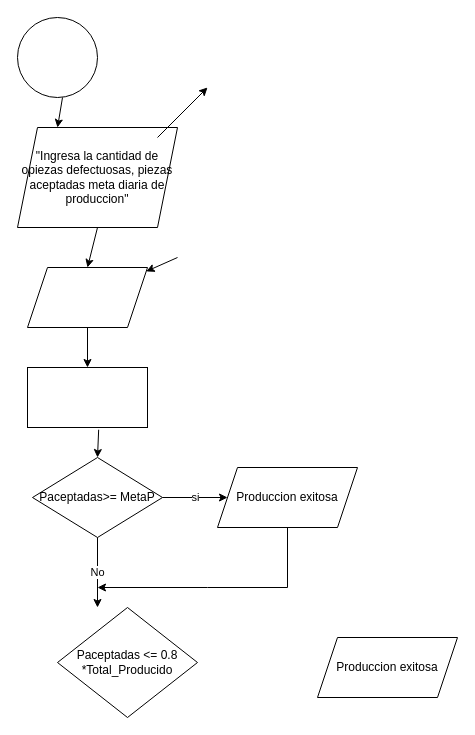
The diagram is 475 pixels wide and 735 high, and some of its shapes have lost their labels. Each missing label, with the centre of its shape:
Inicio: [57,57]
Leer Pdefectuosas Leer Paceptadas Leer MetaP: [87,297]
Total_Producido = Pdefectuosas + Paceptadas: [87,397]
